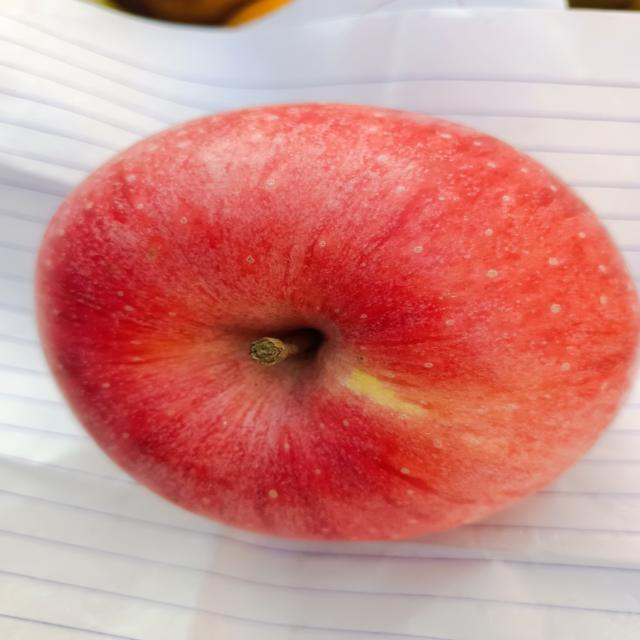Fresh Apple: (44, 108, 638, 555)
